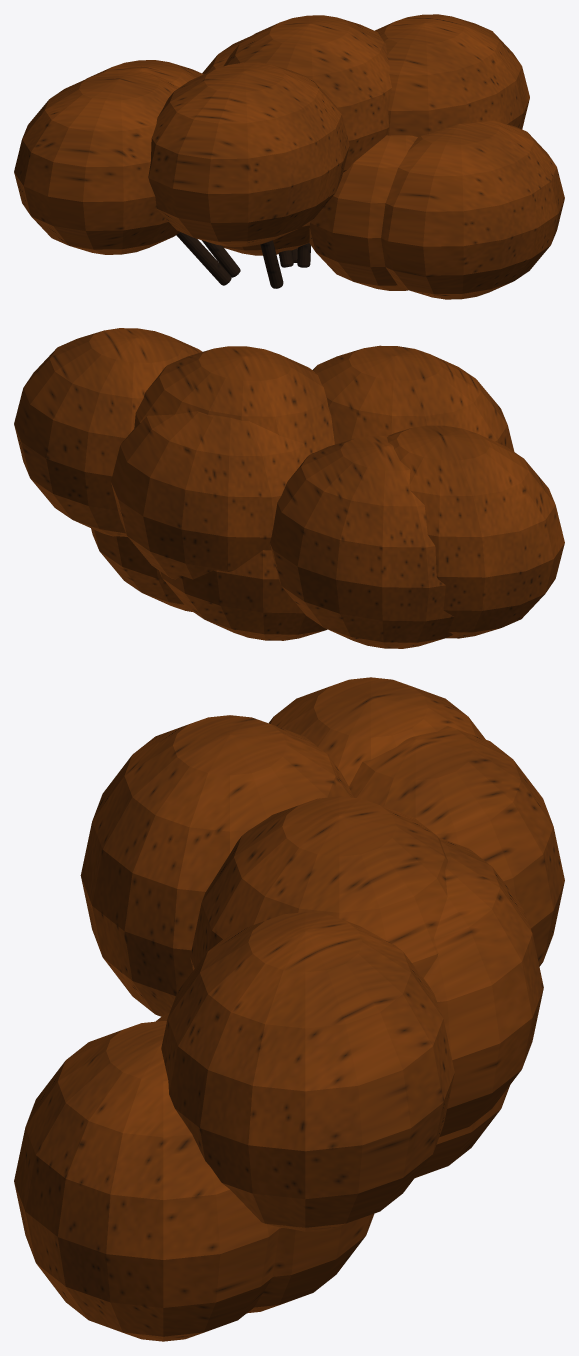
Rendered from PROP-ADD27719D27D_lod0.glb.
3 views of the same model, one above another, from view 1: azimuth 30°, elevation 25°; view 2: azimuth 150°, elevation 25°; view 3: azimuth 270°, elevation 25° (orthographic). The views are drawn at different scales.
Parts seen in each view (by area): view 1: foliage.007, plant_stem.007; view 2: foliage.007; view 3: foliage.007.
Part boxes in pixels (x1,y1,x2,y2): foliage.007: (14, 14, 564, 299); plant_stem.007: (176, 232, 310, 288); foliage.007: (14, 328, 564, 648); foliage.007: (14, 677, 564, 1341).
Bounding box in the file's own units: 1.5 × 0.7568 × 0.8858.
Materials: 2 (2 with a texture image).
